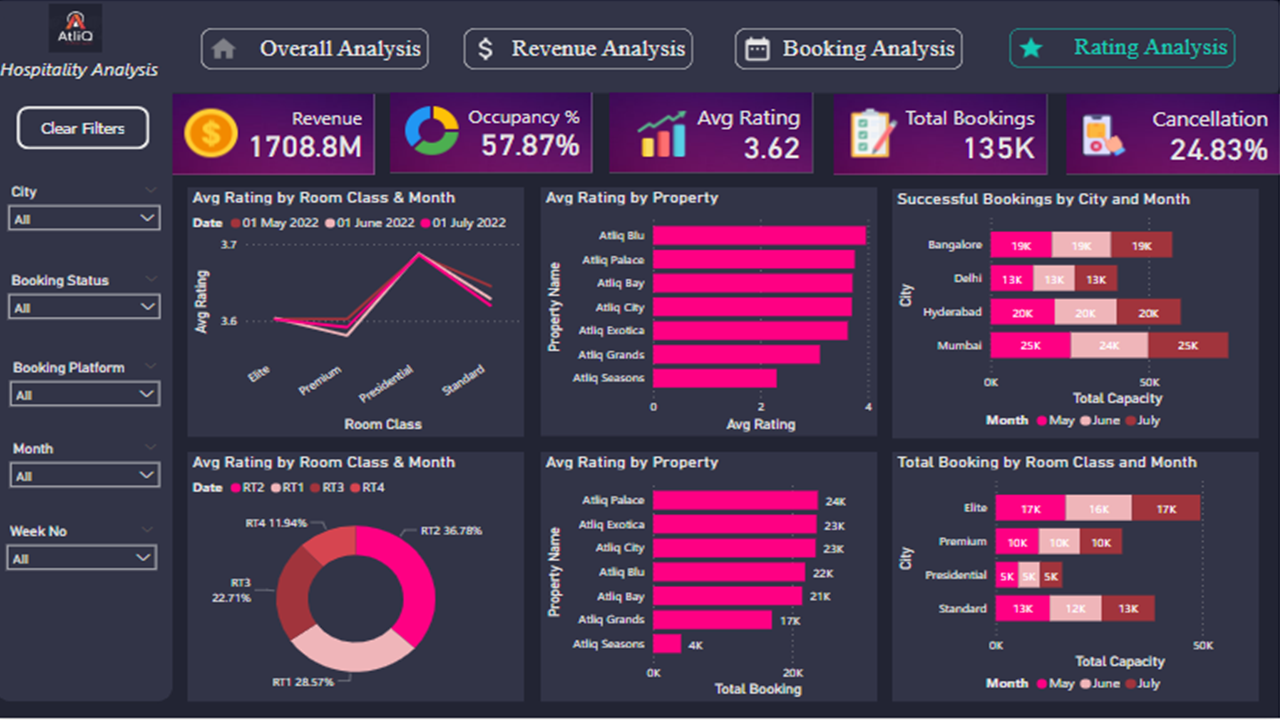

The page's visual inventory and layout, read from the dashboard file:
{"tool":"powerbi","page":{"name":"Rating Analysis","canvas":[1280,784],"ordinal":3},"visuals":[{"type":"shape","box":[0,0,1280,103.3],"z":0},{"type":"shape","box":[0,18.3,176.7,746.7],"z":1000},{"type":"actionButton","box":[205,31.7,226.7,45],"z":2000},{"type":"actionButton","box":[466.7,31.7,228.3,45],"z":3000},{"type":"actionButton","box":[736.7,31.7,226.7,45],"z":4000},{"type":"actionButton","box":[1010,31.7,225,43.3],"z":5000},{"type":"image","box":[36.7,0,86.7,63.3],"z":6000},{"type":"textbox","box":[0,58.3,205,45],"z":7000},{"type":"actionButton","box":[21.7,116.7,131.7,46.7],"z":8000},{"type":"cardVisual","fields":{"Data":["fact_bookings.Revenue"]},"box":[176.7,102.8,201.3,88.3],"z":9000},{"type":"cardVisual","fields":{"Data":["fact_aggregated_bookings.Occupancy%"]},"box":[393.3,102.2,201.1,87.8],"z":10000},{"type":"cardVisual","fields":{"Data":["fact_bookings.AverageRating"]},"box":[611.1,102.2,202.2,87.8],"z":11000},{"type":"cardVisual","fields":{"Data":["fact_bookings.TotalBookings"]},"box":[835.7,102.9,212.9,88.6],"z":12000},{"type":"cardVisual","fields":{"Data":["fact_bookings.Cancellation%"]},"box":[1066.7,103.3,213.3,87.8],"z":13000},{"type":"lineChart","title":"Avg Rating by Room Class & Month","fields":{"Category":["dim_rooms.room_category_class"],"Y":["fact_bookings.Avg Rating"],"Series":["dim_date.mmm yy"]},"box":[191.7,205,335,271.7],"z":14000},{"type":"barChart","title":"Avg Rating by Property","fields":{"Category":["dim_hotels.property_name"],"Y":["fact_bookings.Avg Rating"]},"box":[543.3,205,335,271],"z":15000},{"type":"barChart","title":"Successful Bookings by City and Month","fields":{"Category":["dim_hotels.city","dim_date.date.Variation.Date Hierarchy.Month"],"Series":["dim_date.date.Variation.Date Hierarchy.Month"],"Y":["fact_aggregated_bookings.TotalCapacity"]},"box":[893.3,206.7,365,271.7],"z":16000},{"type":"donutChart","title":"Avg Rating by Room Class & Month","fields":{"Y":["fact_bookings.Total Bookings"],"Category":["dim_rooms.room_category"]},"box":[191.7,493.3,335,271.7],"z":17000},{"type":"barChart","title":"Total No of Booking by Property","fields":{"Category":["dim_hotels.property_name"],"Y":["fact_bookings.Total Bookings"]},"box":[543.3,493.3,335,271.7],"z":18000},{"type":"barChart","title":"Total Booking by Room Class and Month","fields":{"Series":["dim_date.date.Variation.Date Hierarchy.Month"],"Y":["fact_bookings.Total Bookings"],"Category":["dim_rooms.room_category_class"]},"box":[893.3,493.3,365,271.7],"z":19000},{"type":"slicer","fields":{"Values":["dim_hotels.city"]},"box":[3.1,196.7,171,64],"z":21001},{"type":"slicer","fields":{"Values":["fact_bookings.booking_status"]},"box":[2.9,292.9,171.4,64.3],"z":21002},{"type":"slicer","fields":{"Values":["fact_bookings.booking_platform"]},"box":[5.7,388.6,168.6,64.3],"z":21003},{"type":"slicer","fields":{"Values":["dim_date.date.Variation.Date Hierarchy.Month"]},"box":[5.7,477.1,168.6,64.3],"z":21004},{"type":"slicer","fields":{"Values":["dim_date.week no"]},"box":[1.4,567.1,168.6,64.3],"z":21005}]}

Visuals, with their boxes on the page's 1280x784 design canvas (x1, y1, x2, y2). These are canvas units, not pixel positions in the 1280x720 screenshot, which may show the page scaled, cropped or inside an application window:
shape: crop(0, 0, 1280, 103)
shape: crop(0, 18, 177, 765)
actionButton: crop(205, 32, 432, 77)
actionButton: crop(467, 32, 695, 77)
actionButton: crop(737, 32, 963, 77)
actionButton: crop(1010, 32, 1235, 75)
image: crop(37, 0, 123, 63)
textbox: crop(0, 58, 205, 103)
actionButton: crop(22, 117, 153, 163)
cardVisual - fact_bookings.Revenue: crop(177, 103, 378, 191)
cardVisual - fact_aggregated_bookings.Occupancy%: crop(393, 102, 594, 190)
cardVisual - fact_bookings.AverageRating: crop(611, 102, 813, 190)
cardVisual - fact_bookings.TotalBookings: crop(836, 103, 1049, 192)
cardVisual - fact_bookings.Cancellation%: crop(1067, 103, 1280, 191)
"Avg Rating by Room Class & Month" lineChart: crop(192, 205, 527, 477)
"Avg Rating by Property" barChart: crop(543, 205, 878, 476)
"Successful Bookings by City and Month" barChart: crop(893, 207, 1258, 478)
"Avg Rating by Room Class & Month" donutChart: crop(192, 493, 527, 765)
"Total No of Booking by Property" barChart: crop(543, 493, 878, 765)
"Total Booking by Room Class and Month" barChart: crop(893, 493, 1258, 765)
slicer - dim_hotels.city: crop(3, 197, 174, 261)
slicer - fact_bookings.booking_status: crop(3, 293, 174, 357)
slicer - fact_bookings.booking_platform: crop(6, 389, 174, 453)
slicer - dim_date.date.Variation.Date Hierarchy.Month: crop(6, 477, 174, 541)
slicer - dim_date.week no: crop(1, 567, 170, 631)
